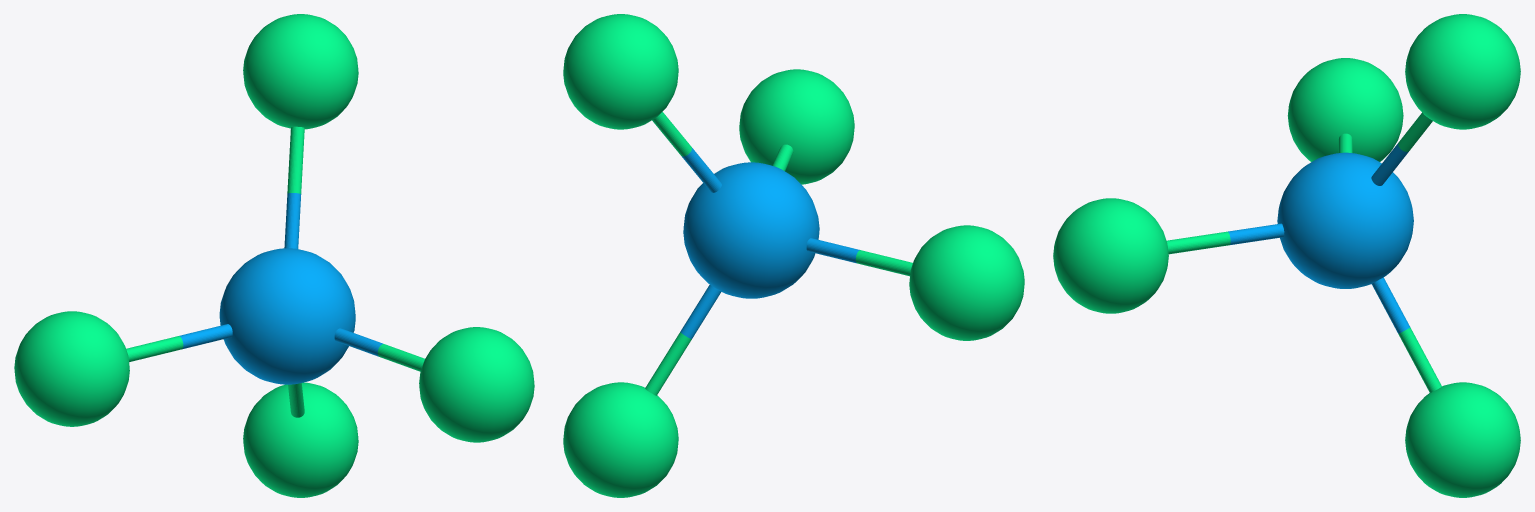
File: tetrachlorocobaltate-ii.fbx
3 renders of one model, left to right at view 1: azimuth 30°, elevation 25°; view 2: azimuth 150°, elevation 25°; view 3: azimuth 270°, elevation 25°, orthographic.
Parts seen in each view (by area): view 1: Co01, Cl03, Cl05, Cl04, Cl02, Co01-Cl04, Co01-Cl05, Co01-Cl03; view 2: Co01, Cl04, Cl05, Cl02, Cl03, Co01-Cl02, Co01-Cl05, Co01-Cl04; view 3: Co01, Cl03, Cl04, Cl02, Cl05, Co01-Cl02, Co01-Cl03, Co01-Cl04.
Boxes of the visible parts, bbox=[...] form: Co01: bbox=[219, 248, 355, 384]; Cl03: bbox=[419, 327, 534, 442]; Cl05: bbox=[14, 311, 129, 426]; Cl04: bbox=[243, 14, 358, 129]; Cl02: bbox=[243, 382, 358, 497]; Co01-Cl04: bbox=[284, 126, 304, 248]; Co01-Cl05: bbox=[126, 324, 232, 362]; Co01-Cl03: bbox=[334, 328, 424, 371]; Co01: bbox=[683, 162, 819, 298]; Cl04: bbox=[563, 14, 678, 129]; Cl05: bbox=[909, 225, 1024, 340]; Cl02: bbox=[563, 382, 678, 497]; Cl03: bbox=[739, 69, 854, 184]; Co01-Cl02: bbox=[645, 285, 720, 395]; Co01-Cl05: bbox=[806, 238, 912, 276]; Co01-Cl04: bbox=[652, 112, 721, 192]; Co01: bbox=[1277, 152, 1413, 288]; Cl03: bbox=[1053, 198, 1168, 313]; Cl04: bbox=[1405, 14, 1520, 129]; Cl02: bbox=[1405, 382, 1520, 497]; Cl05: bbox=[1287, 58, 1403, 161]; Co01-Cl02: bbox=[1371, 277, 1441, 392]; Co01-Cl03: bbox=[1166, 223, 1284, 254]; Co01-Cl04: bbox=[1371, 112, 1432, 185].
Bounding box in the file's own units: 387 × 451 × 404.
